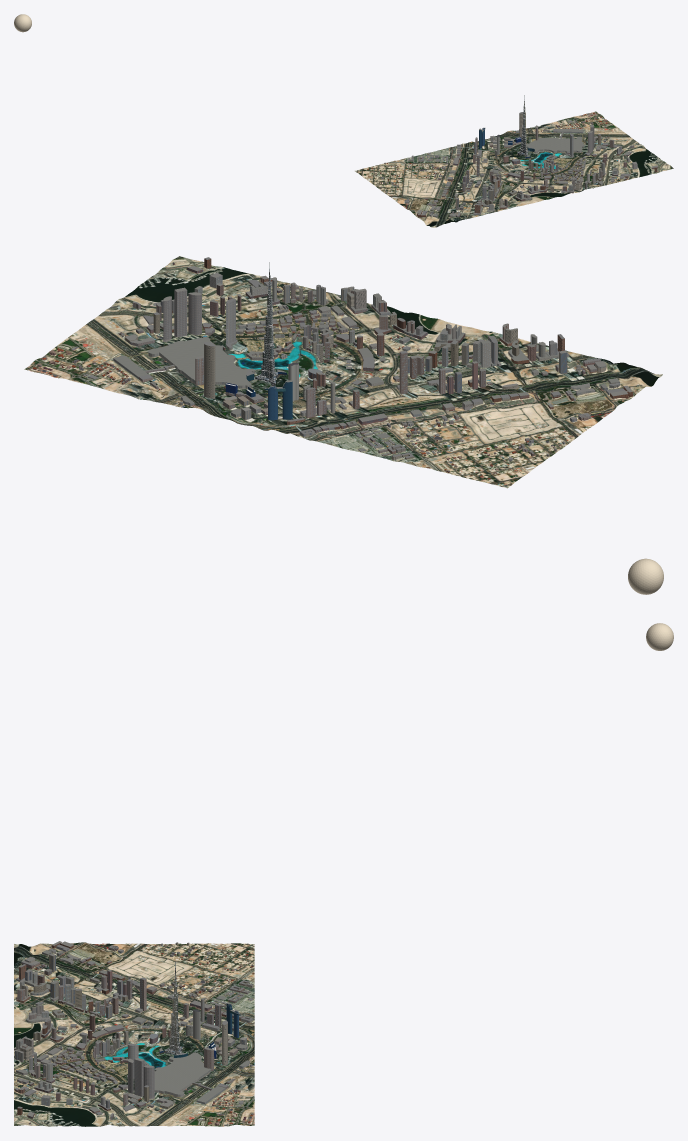
Rendered from burj_khalifa_web.glb.
The picture shows the model from 3 angles, top to bottom: view 1: azimuth 30°, elevation 25°; view 2: azimuth 150°, elevation 25°; view 3: azimuth 270°, elevation 25°; orthographic projection. The views are drawn at different scales.
Visible parts, largest first — view 1: Terrain, map_23.osm_buildings_cade1a, map_23.osm_buildings_d5ff3d, map_23.osm_buildings_c7f733, map_23.osm_buildings, map_23.osm_buildings_abf1a8; view 2: Terrain, map_23.osm_buildings_cade1a, map_23.osm_buildings, map_23.osm_buildings_c7f733, map_23.osm_buildings_d5ff3d, map_23.osm_buildings_abf1a8, Golden_Hour_Sun, map_23.osm_buildings_dfd5f0, Burj_0, map_23.osm_buildings_3c4dfb, map_23.osm_buildings_1d7c8c, map_23.osm_buildings_484d08 (+8 smaller); view 3: Terrain, map_23.osm_buildings_cade1a, map_23.osm_buildings, map_23.osm_buildings_c7f733, map_23.osm_buildings_d5ff3d, map_23.osm_buildings_abf1a8.
Part boxes in pixels (x1=…): Terrain: x1=355, y1=111, x2=673, y2=227; map_23.osm_buildings_cade1a: x1=408, y1=128, x2=630, y2=216; map_23.osm_buildings_d5ff3d: x1=380, y1=112, x2=657, y2=216; map_23.osm_buildings_c7f733: x1=376, y1=124, x2=657, y2=215; map_23.osm_buildings: x1=383, y1=113, x2=614, y2=217; map_23.osm_buildings_abf1a8: x1=392, y1=127, x2=631, y2=214; Terrain: x1=24, y1=256, x2=662, y2=488; map_23.osm_buildings_cade1a: x1=113, y1=283, x2=619, y2=455; map_23.osm_buildings: x1=37, y1=290, x2=619, y2=466; map_23.osm_buildings_c7f733: x1=122, y1=266, x2=632, y2=459; map_23.osm_buildings_d5ff3d: x1=71, y1=257, x2=619, y2=456; map_23.osm_buildings_abf1a8: x1=139, y1=279, x2=624, y2=458; Golden_Hour_Sun: x1=628, y1=558, x2=663, y2=594; map_23.osm_buildings_dfd5f0: x1=43, y1=288, x2=607, y2=452; Burj_0: x1=255, y1=262, x2=277, y2=385; map_23.osm_buildings_3c4dfb: x1=204, y1=293, x2=413, y2=459; map_23.osm_buildings_1d7c8c: x1=85, y1=272, x2=575, y2=450; map_23.osm_buildings_484d08: x1=148, y1=287, x2=606, y2=409; Terrain: x1=14, y1=942, x2=254, y2=1126; map_23.osm_buildings_cade1a: x1=16, y1=950, x2=250, y2=1111; map_23.osm_buildings: x1=34, y1=945, x2=251, y2=1124; map_23.osm_buildings_c7f733: x1=16, y1=941, x2=247, y2=1116; map_23.osm_buildings_d5ff3d: x1=15, y1=942, x2=253, y2=1119; map_23.osm_buildings_abf1a8: x1=16, y1=944, x2=252, y2=1114.
Size of what is drawn, in the model's own units: 6611 by 1557 by 5430.
118 materials, 117 textured.
